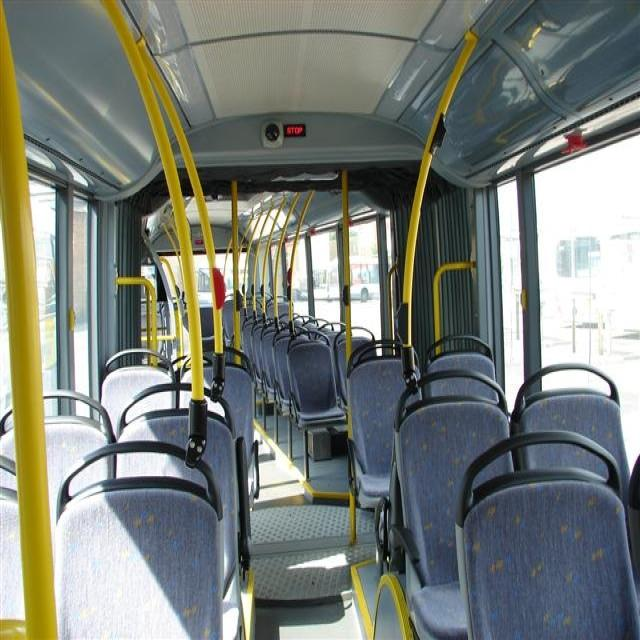empty-seat-frontal: (285, 329, 347, 431)
